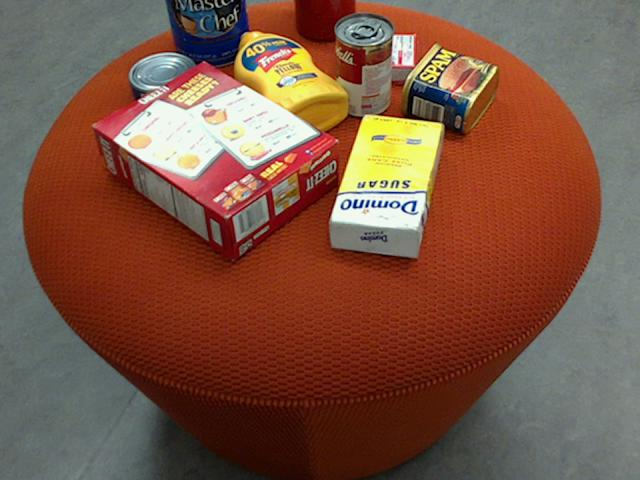cracker_box: (90, 59, 338, 258)
gelatin_box: (345, 34, 417, 83)
large_marker: (318, 0, 335, 34)
master_chef_can: (164, 0, 251, 66)
mug: (293, 0, 355, 40)
mustard_bottle: (233, 32, 347, 139)
potted_meat_can: (399, 43, 497, 133)
sugar_box: (330, 113, 442, 258)
tomato_soup_can: (334, 12, 393, 116)
tuna_fish_can: (126, 53, 200, 113)
